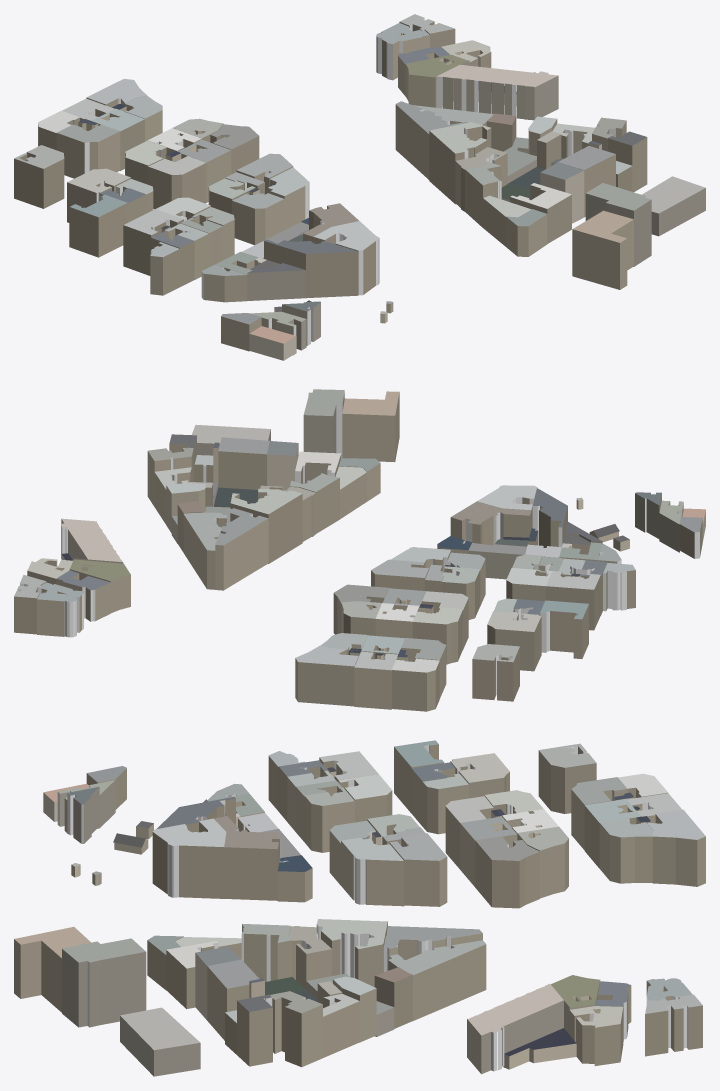
3 views of the same model, one above another, from view 1: azimuth 30°, elevation 25°; view 2: azimuth 150°, elevation 25°; view 3: azimuth 270°, elevation 25° (orthographic). The views are drawn at different scales.
Parts seen in each view (by area): view 1: tuile; view 2: tuile; view 3: tuile.
Part boxes in pixels (left/top/right/bottom): tuile: left=14, top=14, right=705, bottom=360; tuile: left=14, top=389, right=705, bottom=711; tuile: left=14, top=740, right=705, bottom=1076.
Size of the model in its own units: 277 by 30.74 by 280.
